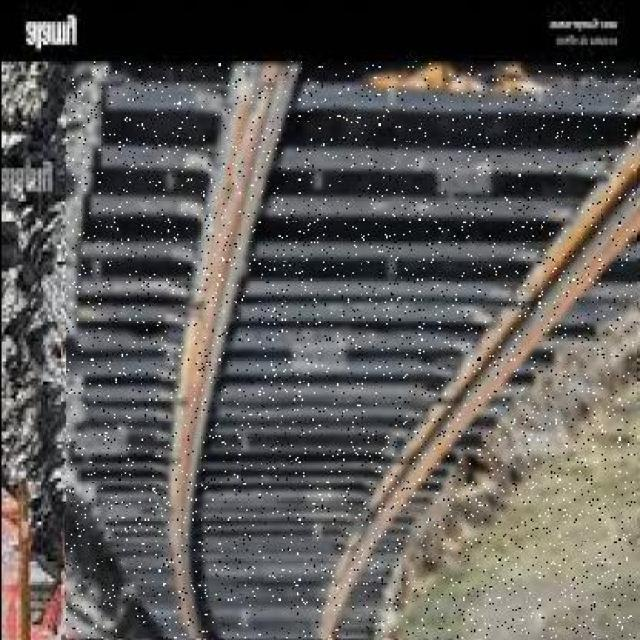rail: (66, 58, 634, 636)
